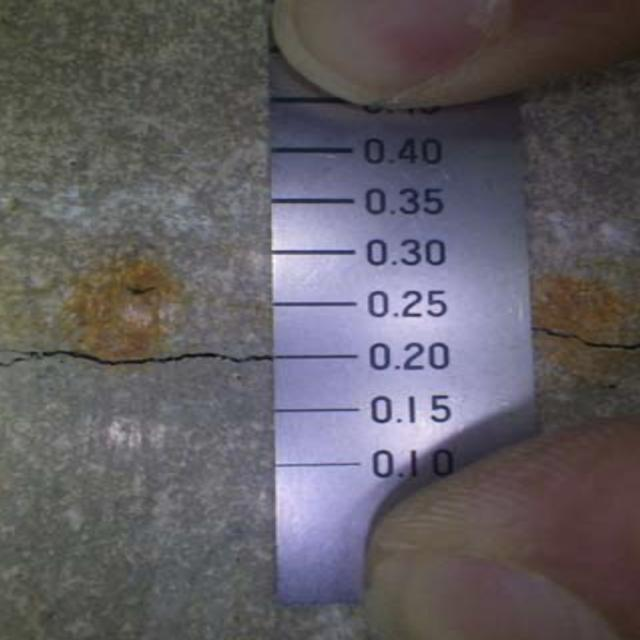crack: (0, 324, 279, 396), (538, 305, 640, 368)
